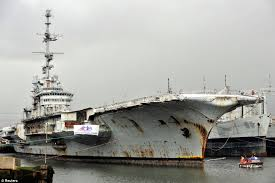rust: (196, 125, 206, 156), (131, 121, 145, 133), (139, 151, 155, 158)
